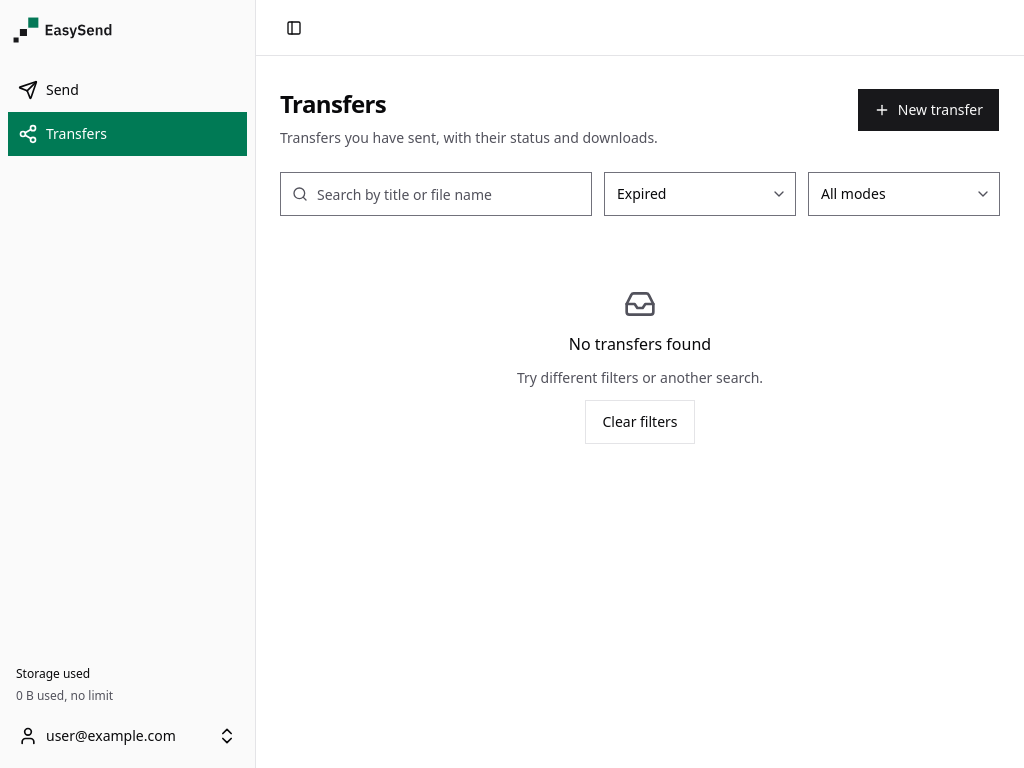
Test: TransfersPage › tells the difference between no transfers and no results
Expected: the heading "Transfers" is shown, [280,87,386,120]
Expected: the text "No transfers found" is shown, [569,332,711,356]
Click the button "Clear filters". click: (640, 422)
box: [585,400,694,444]
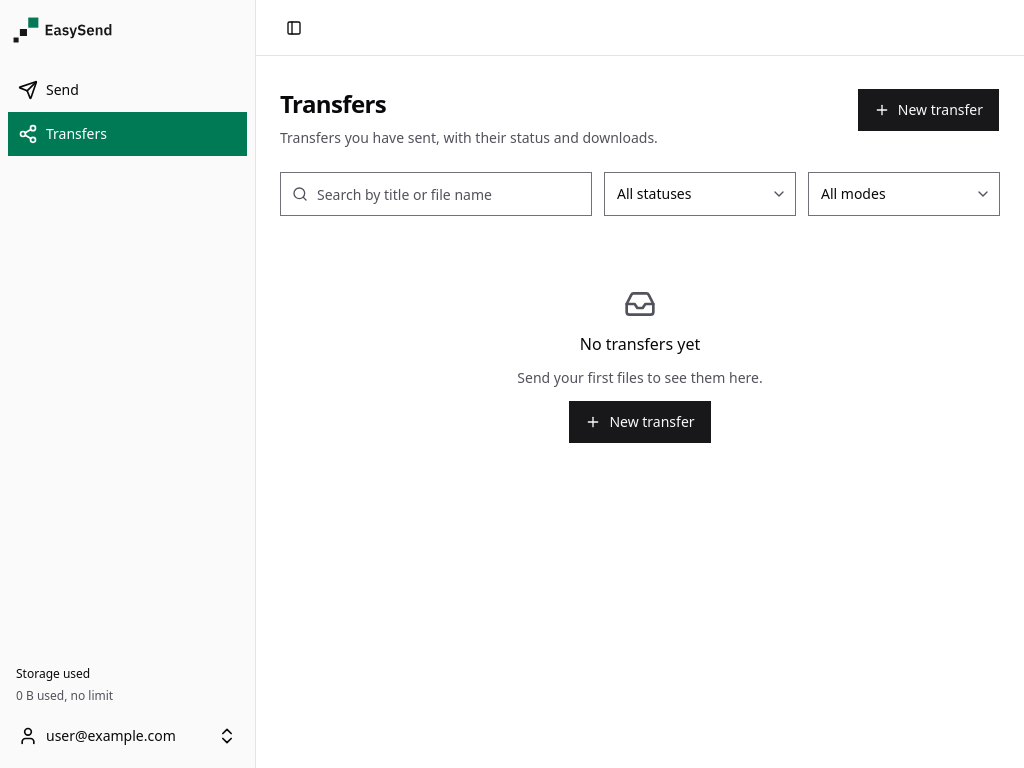
Now the dropdown labelled "status" reads "All statuses", box [604,172,796,216]
